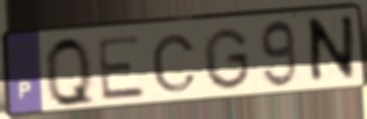9: (259, 17, 301, 92)
C: (149, 32, 200, 95)
E: (95, 32, 150, 103)
G: (201, 26, 253, 92)
N: (307, 12, 358, 90)
Q: (41, 34, 98, 110)
